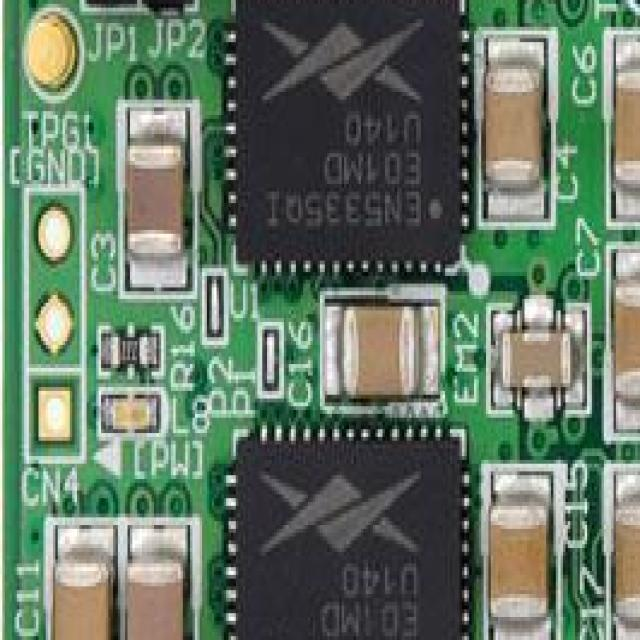EM: (491, 299, 592, 398)
IC: (222, 0, 469, 272), (219, 410, 474, 640)
LED: (89, 387, 161, 425)
capacitor: (116, 100, 192, 291), (472, 23, 546, 215), (320, 287, 445, 398), (478, 463, 553, 640), (120, 517, 198, 640), (43, 517, 118, 640), (604, 27, 640, 222), (604, 245, 640, 433), (606, 467, 639, 640)
connector: (24, 188, 84, 452), (128, 0, 192, 8)
resistor: (94, 310, 159, 368)
test point: (17, 11, 86, 96), (253, 314, 279, 395), (202, 268, 224, 338), (618, 0, 639, 15)
